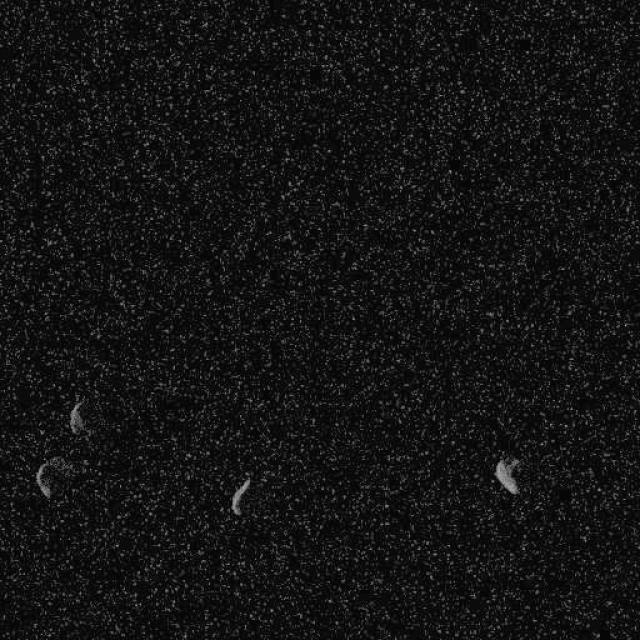D2: (34, 456, 72, 500), (492, 455, 522, 495), (229, 476, 251, 515), (68, 397, 86, 435)
